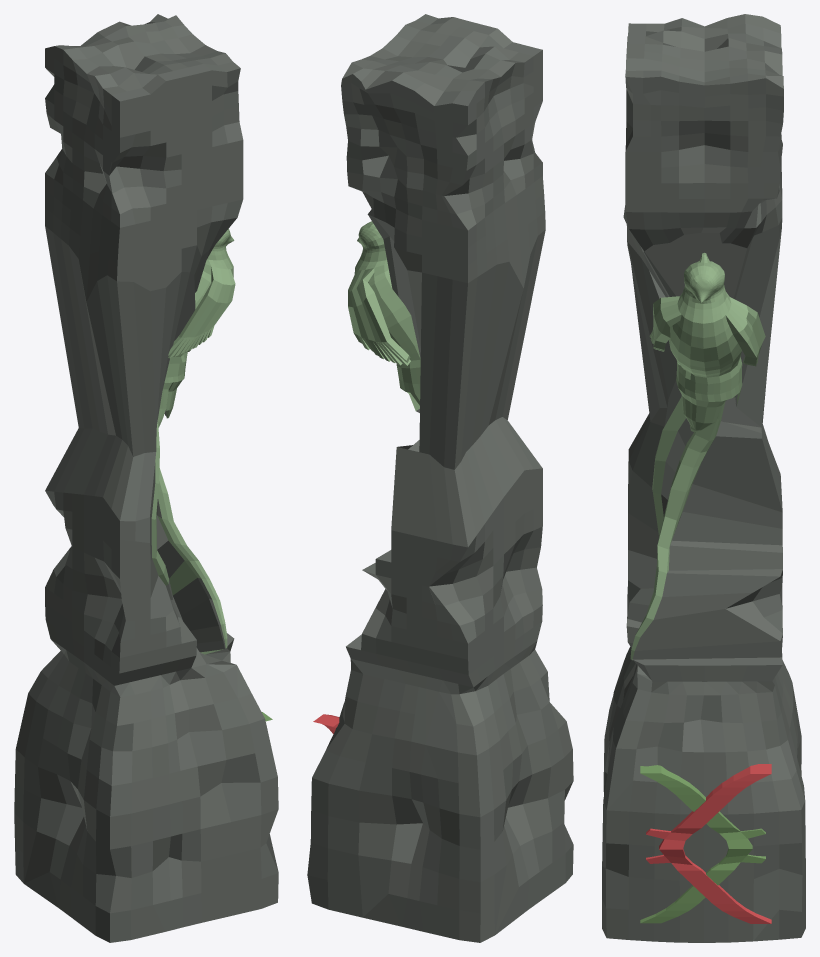
File: quetzal_green.fbx
3 renders of one model, left to right at view 1: azimuth 30°, elevation 25°; view 2: azimuth 150°, elevation 25°; view 3: azimuth 270°, elevation 25°, orthographic.
Visible parts, largest first — view 1: Quetzal_Column_Symbol; view 2: Quetzal_Column_Symbol; view 3: Quetzal_Column_Symbol.
Boxes of the visible parts, bbox=[...] form: Quetzal_Column_Symbol: bbox=[14, 14, 278, 942]; Quetzal_Column_Symbol: bbox=[307, 14, 573, 942]; Quetzal_Column_Symbol: bbox=[602, 14, 805, 942].
Size of the model in its own units: 434 by 1875 by 407.
